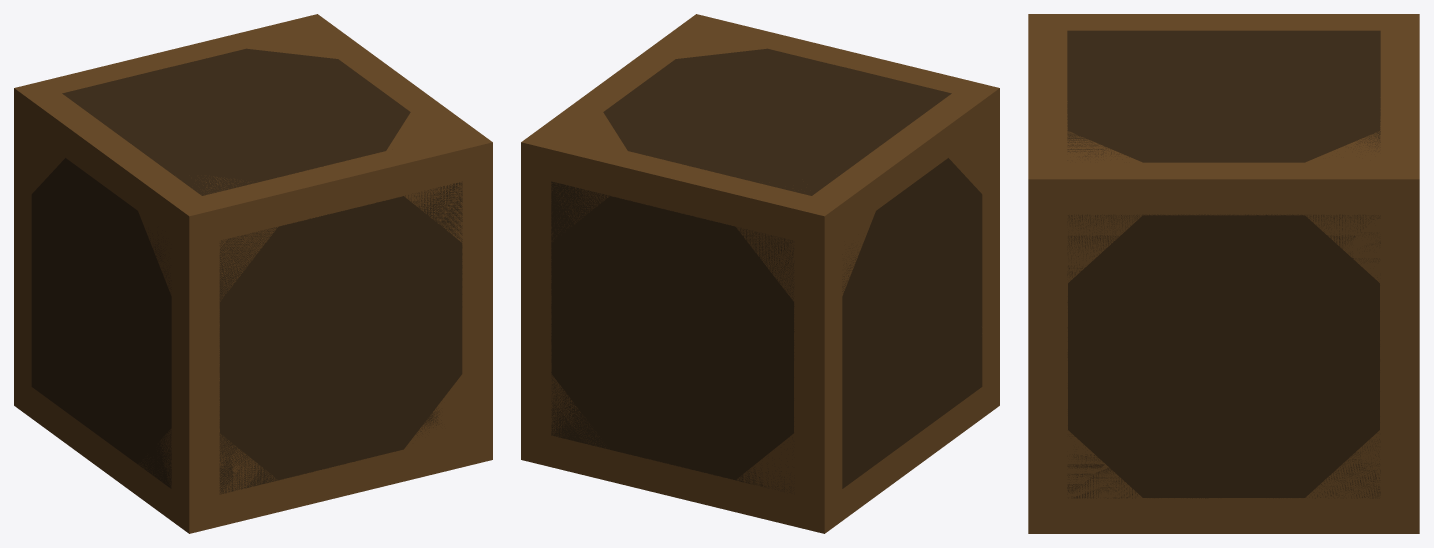
Rendered from Cube_Lab_FBX.fbx.
3 views of the same model, side by side, from view 1: azimuth 30°, elevation 25°; view 2: azimuth 150°, elevation 25°; view 3: azimuth 270°, elevation 25° (orthographic). The views are drawn at different scales.
Visible parts, largest first — view 1: Boole_2, Würfel_3, Würfel_4, Würfel_5; view 2: Boole_2, Würfel_2, Würfel_4, Würfel_5; view 3: Boole_2, Würfel_6, Würfel_5.
Part boxes in pixels (x1,y1,x2,y2): Boole_2: (14,14,492,533); Würfel_3: (219,181,462,494); Würfel_4: (31,158,171,488); Würfel_5: (62,48,410,195); Boole_2: (521,14,999,533); Würfel_2: (551,181,794,492); Würfel_4: (842,158,982,488); Würfel_5: (603,48,951,195); Boole_2: (1028,14,1419,533); Würfel_6: (1067,214,1380,498); Würfel_5: (1067,30,1380,162).
Bounding box in the file's own units: 200 × 200 × 200.
